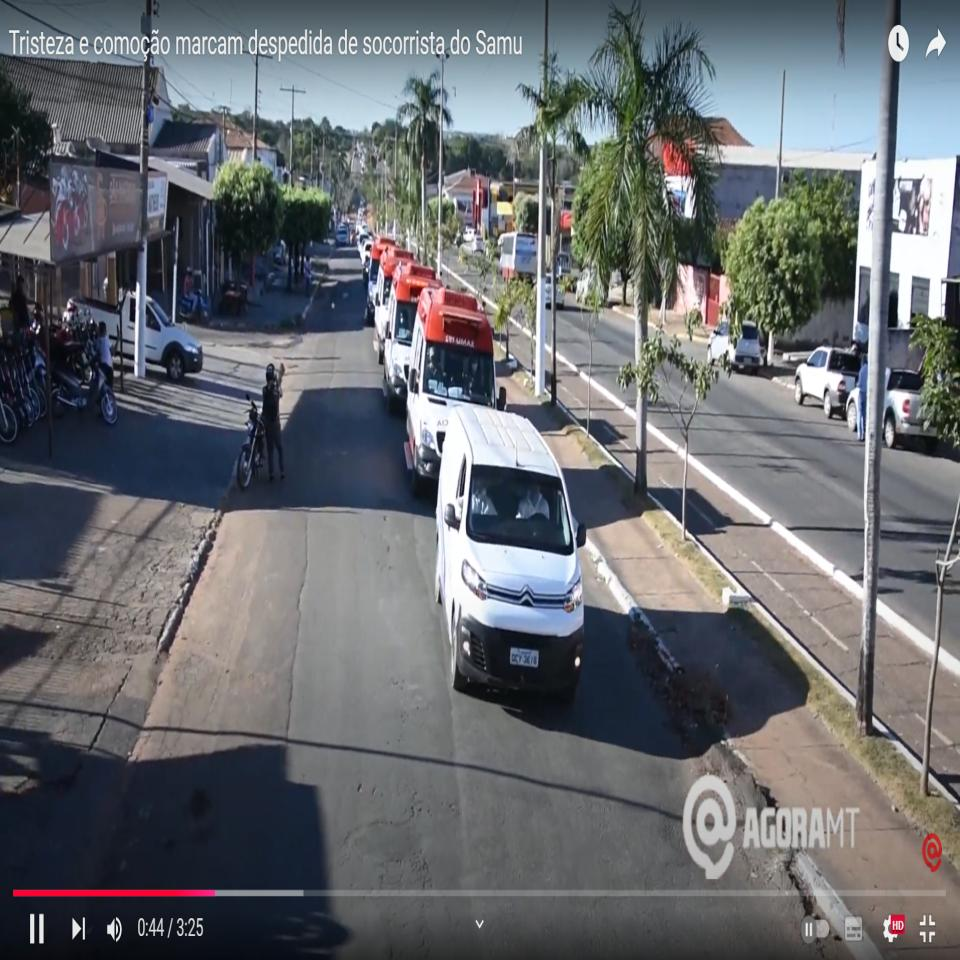bombeiro: (405, 288, 507, 496), (381, 266, 436, 414)
